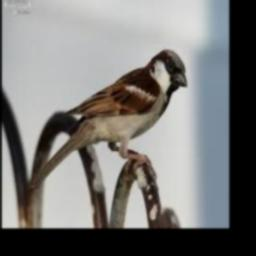Sparrow: (28, 50, 187, 192)
